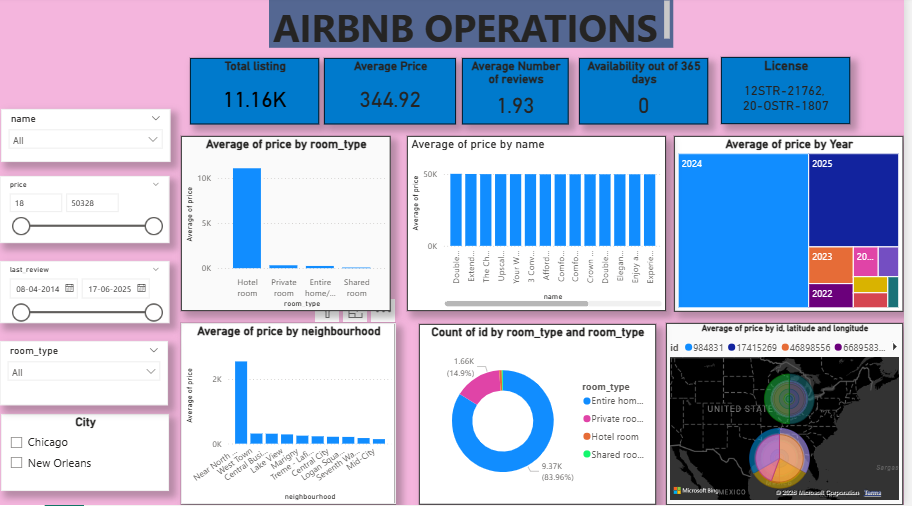

The dashboard page shown, as its layout file describes it:
{"tool":"powerbi","page":{"name":"Page 1","canvas":[1280,720],"ordinal":0},"visuals":[{"type":"slicer","title":"City","fields":{"Values":["Combine table.City"]},"box":[1.4,591,238.1,109.1],"z":0},{"type":"map","fields":{"Y":["Combine table.latitude"],"X":["Combine table.longitude"],"Size":["Avg(Combine table.price)"],"Series":["Combine table.id"]},"box":[944.6,462.2,335.5,257.8],"z":1000},{"type":"slicer","fields":{"Values":["Combine table.name"]},"box":[1.4,158.7,239.5,75.1],"z":2000},{"type":"slicer","fields":{"Values":["Combine table.price"]},"box":[0,253.7,239.5,95],"z":3000},{"type":"card","title":"Total listing","fields":{"Values":["Count(Combine table.id)"]},"box":[269.3,86.4,182.9,93.6],"z":4000},{"type":"card","title":"Average Price ","fields":{"Values":["Avg(Combine table.price)"]},"box":[459.4,86.4,187.2,93.6],"z":5000},{"type":"card","title":"Average Number of reviews","fields":{"Values":["Combine table.Total_num_reviews"]},"box":[655.2,86.4,151.2,93.6],"z":6000},{"type":"clusteredColumnChart","fields":{"Category":["Combine table.neighbourhood"],"Y":["Avg(Combine table.price)"]},"box":[257,461.9,304,257],"z":7000},{"type":"donutChart","fields":{"Y":["Count(Combine table.id)"],"Category":["Combine table.room_type"],"Series":["Combine table.room_type"]},"box":[593.3,463.7,335.5,256.3],"z":8000},{"type":"slicer","fields":{"Values":["Combine table.last_review"]},"box":[0,374.2,239.5,87.9],"z":9000},{"type":"card","title":"Availability out of 365 days","fields":{"Values":["Min(Combine table.availability_365)"]},"box":[820.8,86.4,182.9,93.6],"z":10000},{"type":"slicer","fields":{"Values":["Combine table.room_type"]},"box":[0,487.6,238.1,90.7],"z":11000},{"type":"columnChart","fields":{"Category":["Combine table.room_type"],"Y":["Avg(Combine table.price)"]},"box":[256.7,196.7,296.7,248.3],"z":12000},{"type":"treemap","fields":{"Group":["Combine table.last_review.Variation.Date Hierarchy.Year","Combine table.last_review.Variation.Date Hierarchy.Quarter","Combine table.last_review.Variation.Date Hierarchy.Month","Combine table.last_review.Variation.Date Hierarchy.Day"],"Values":["Avg(Combine table.price)"]},"box":[955.3,197,324.6,249.4],"z":13000},{"type":"card","title":"License","fields":{"Values":["Min(Combine table.license)"]},"box":[1021.7,85,183.3,95],"z":14000},{"type":"textbox","box":[381.7,0,573.3,71.7],"z":16000},{"type":"columnChart","fields":{"Category":["Combine table.name"],"Y":["Avg(Combine table.price)"]},"box":[577.4,197.3,367.2,247.7],"z":16001}]}

Visuals, with their boxes in screenshot pixels (x1, y1, x2, y2), scaled from the page's 1280x720 canvas onto the 912x506 screenshot:
"City" slicer: 1:415:171:492
map - Combine table.latitude x Combine table.longitude: 673:325:911:505
slicer - Combine table.name: 1:112:172:164
slicer - Combine table.price: 0:178:171:245
"Total listing" card: 192:61:322:126
"Average Price " card: 327:61:461:126
"Average Number of reviews" card: 467:61:575:126
clusteredColumnChart - Combine table.neighbourhood x Avg(Combine table.price): 183:325:400:505
donutChart - Count(Combine table.id) x Combine table.room_type: 423:326:662:505
slicer - Combine table.last_review: 0:263:171:325
"Availability out of 365 days" card: 585:61:715:126
slicer - Combine table.room_type: 0:343:170:406
columnChart - Combine table.room_type x Avg(Combine table.price): 183:138:394:313
treemap - Combine table.last_review.Variation.Date Hierarchy.Year x Combine table.last_review.Variation.Date Hierarchy.Quarter: 681:138:911:314
"License" card: 728:60:859:126
textbox: 272:0:680:50
columnChart - Combine table.name x Avg(Combine table.price): 411:139:673:313
